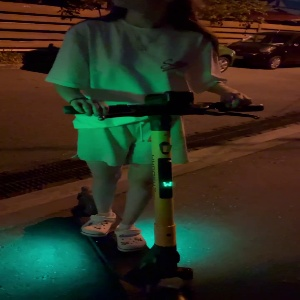human on a scooter: (45, 1, 264, 300)
